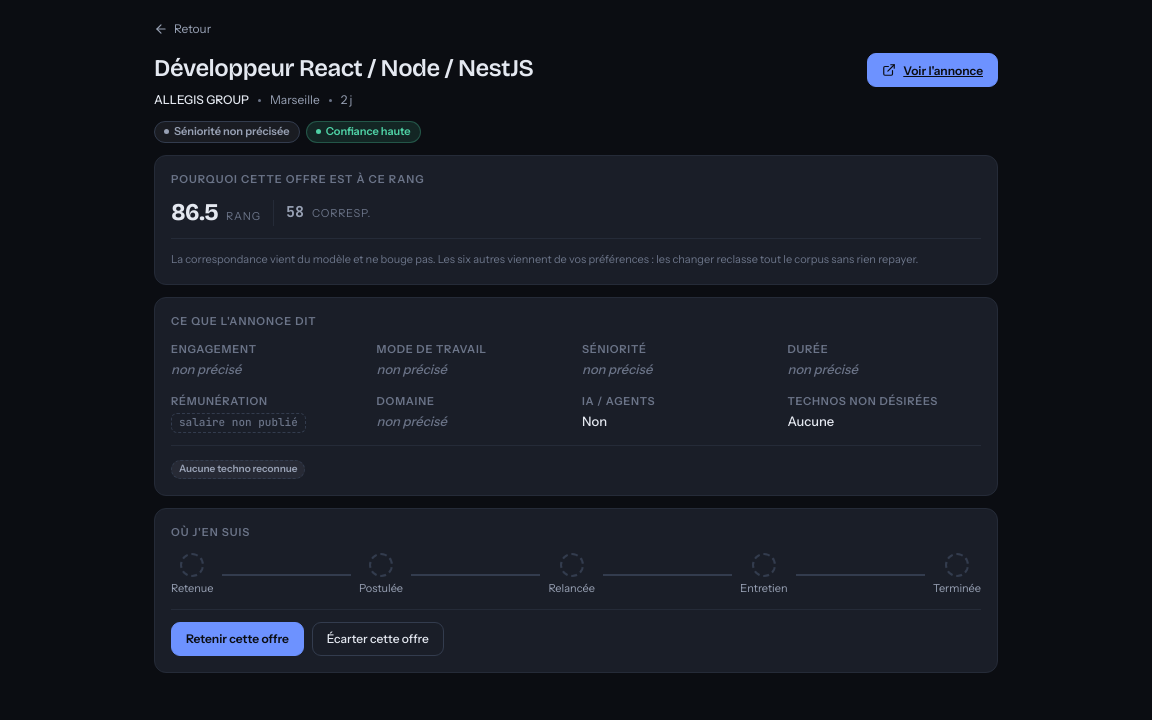
Test: DetailScreen › une action qui échoue laisse un message d’erreur nommé, sans faire planter l’écran
Expected: the heading "Développeur React / Node / NestJS" is shown, x1=154 y1=54 x2=533 y2=82
Click the button "Retenir cette offre" at (237,639), box x1=171 y1=622 x2=304 y2=656
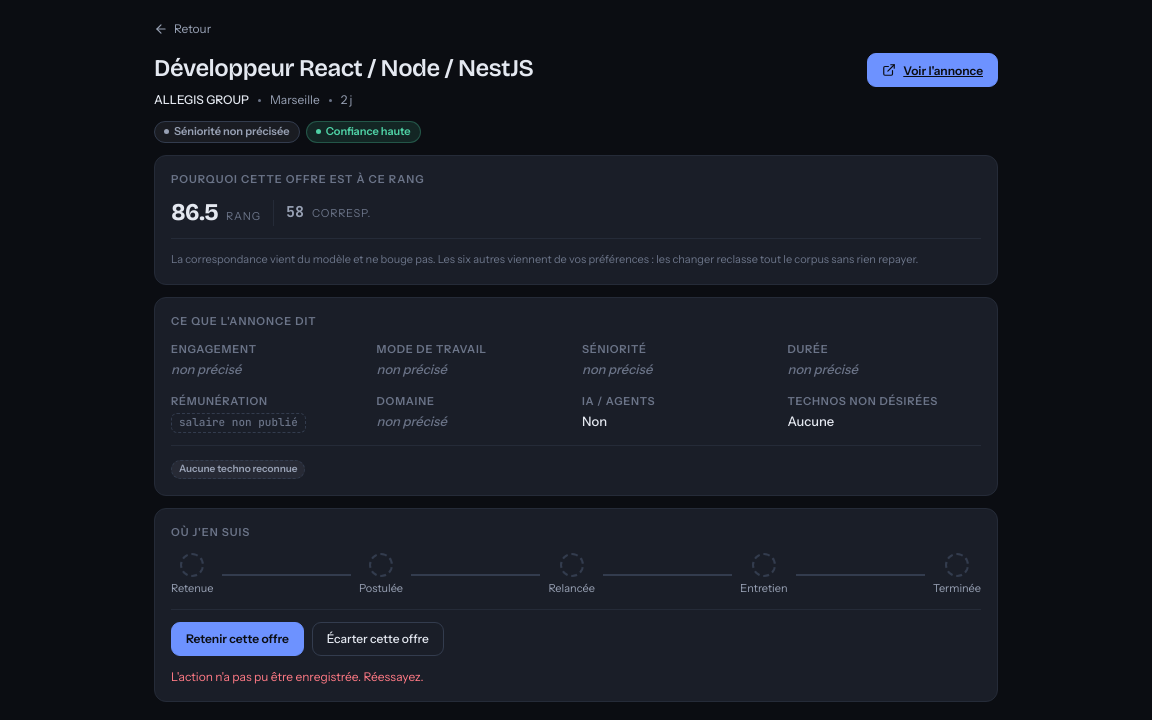
Result: the message "L'action n'a pas pu être enregistrée. Réessayez." is shown at x1=171 y1=669 x2=424 y2=684
